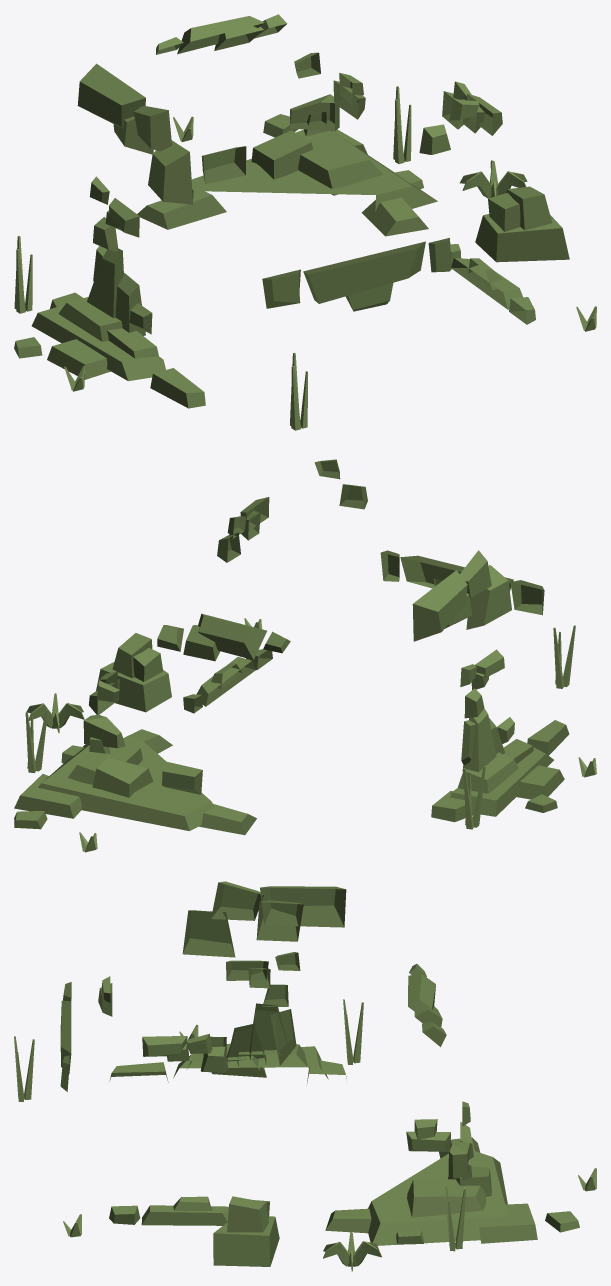
File: SA_Bld_HouseGarage_Growth_Damaged_04.gltf
3 renders of one model, top to bottom at view 1: azimuth 30°, elevation 25°; view 2: azimuth 150°, elevation 25°; view 3: azimuth 270°, elevation 25°, orthographic. The views are drawn at different scales.
Visible parts, largest first — view 1: SA_Bld_HouseGarage_Growth_Damaged_04; view 2: SA_Bld_HouseGarage_Growth_Damaged_04; view 3: SA_Bld_HouseGarage_Growth_Damaged_04.
Part boxes in pixels (<box>): SA_Bld_HouseGarage_Growth_Damaged_04: <box>14,14,596,430</box>; SA_Bld_HouseGarage_Growth_Damaged_04: <box>14,459,596,852</box>; SA_Bld_HouseGarage_Growth_Damaged_04: <box>14,881,596,1271</box>.
Size of the model in its own units: 20.18 by 8.57 by 21.05.
1 material, 1 textured.
